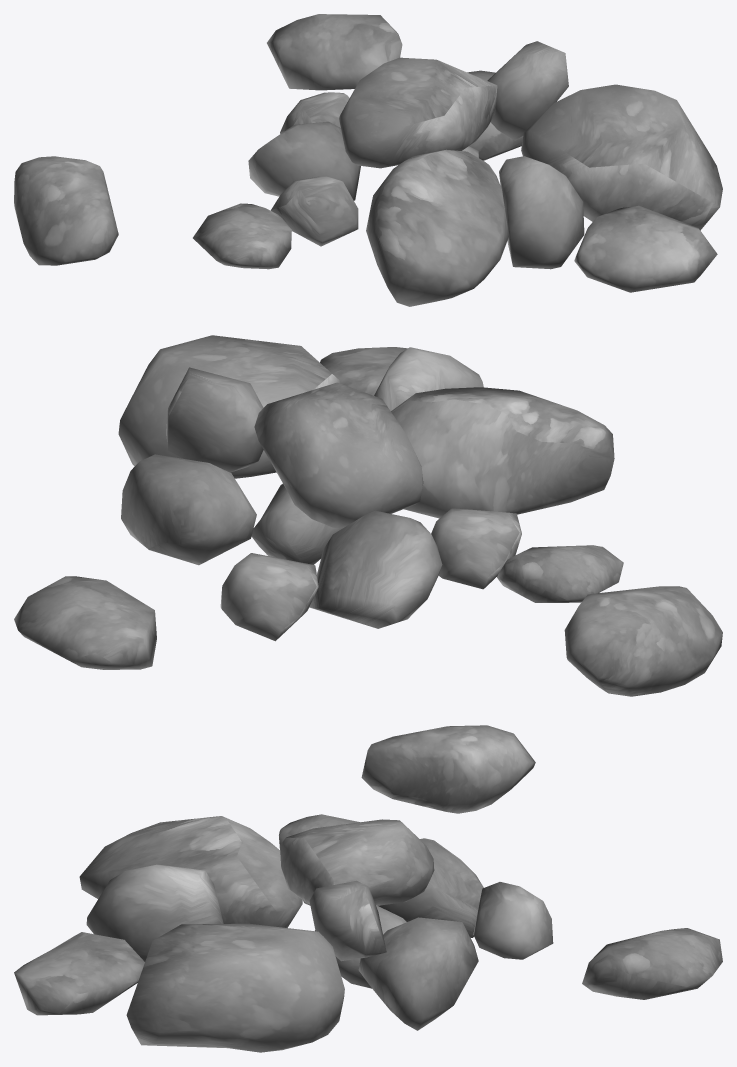
Rendered from SM_Pebbes_01a.fbx.
3 views of the same model, one above another, from view 1: azimuth 30°, elevation 25°; view 2: azimuth 150°, elevation 25°; view 3: azimuth 270°, elevation 25° (orthographic). The views are drawn at different scales.
Parts seen in each view (by area): view 1: SM_Pebbes_01a_LOD0; view 2: SM_Pebbes_01a_LOD0; view 3: SM_Pebbes_01a_LOD0.
Part boxes in pixels (box(x1,y1,x2,y2)): SM_Pebbes_01a_LOD0: box(14, 14, 722, 306); SM_Pebbes_01a_LOD0: box(14, 335, 722, 696); SM_Pebbes_01a_LOD0: box(14, 725, 722, 1052).
Size of the model in its own units: 171 by 175 by 38.33.
